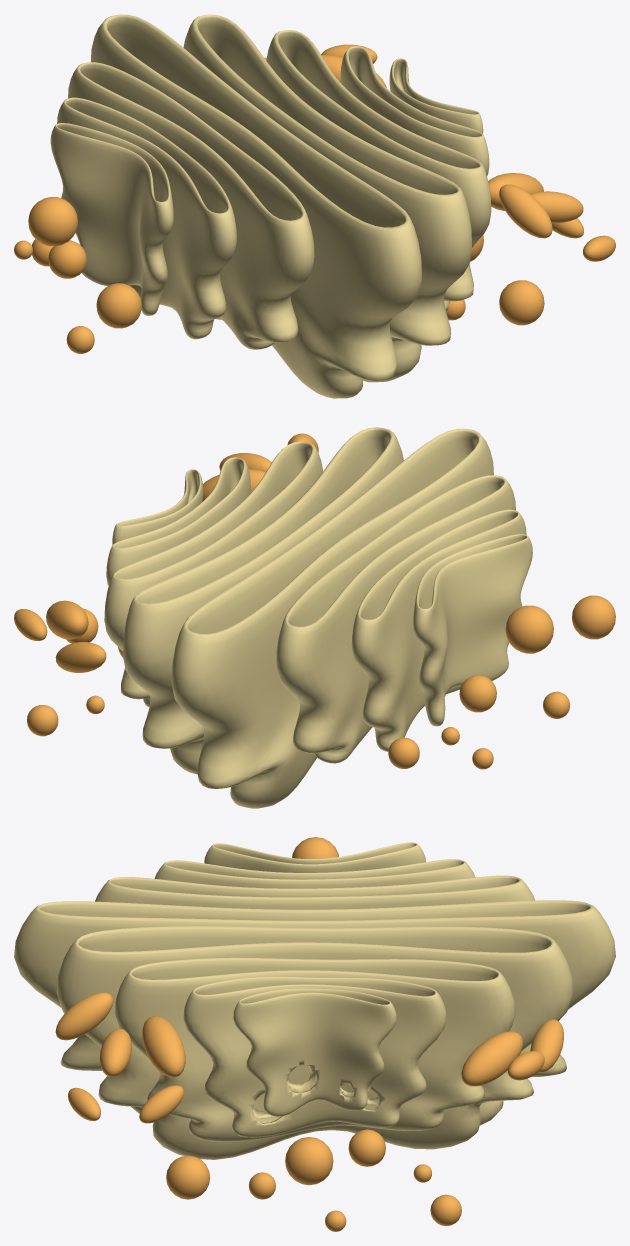
Rendered from golgi_apparatuscomplex-transformed.glb.
The picture shows the model from 3 angles, top to bottom: view 1: azimuth 30°, elevation 25°; view 2: azimuth 150°, elevation 25°; view 3: azimuth 270°, elevation 25°; orthographic projection. The views are drawn at different scales.
Visible parts, largest first — view 1: GA-material, vesicles-material; view 2: GA-material, vesicles-material; view 3: GA-material, vesicles-material.
Part boxes in pixels (x1,y1,x2,y2): GA-material: (50,14,491,398); vesicles-material: (14,44,615,353); GA-material: (104,427,532,808); vesicles-material: (14,433,615,769); GA-material: (14,842,615,1159); vesicles-material: (55,837,563,1231).
Size of the model in its own units: 2.56 by 1.31 by 2.91.
